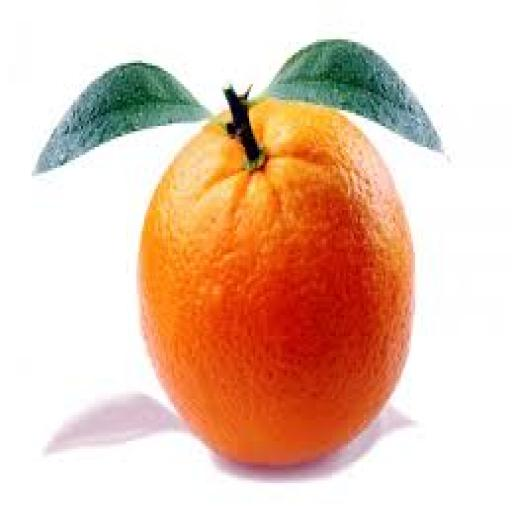orange: (139, 100, 413, 464)
